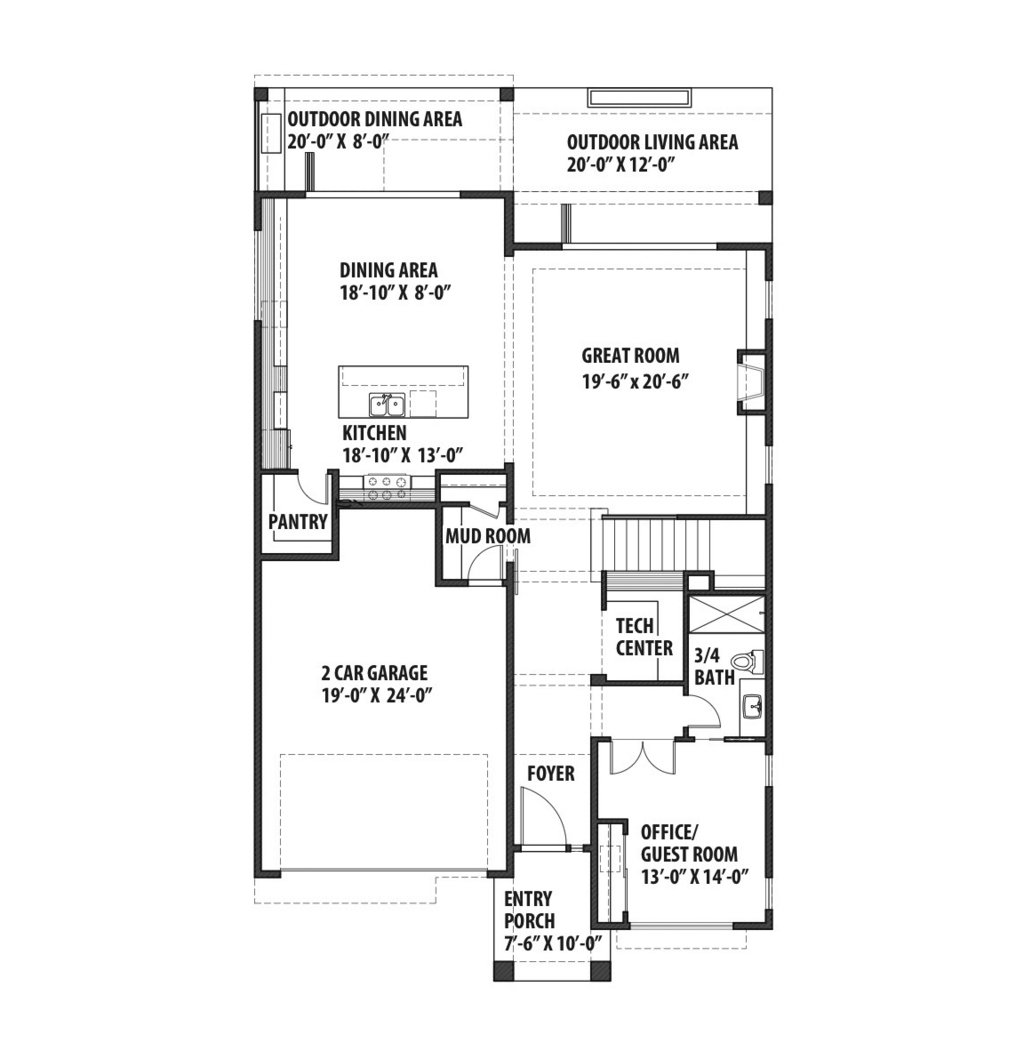door: (511, 781, 571, 849), (603, 734, 681, 778), (684, 689, 726, 730), (291, 465, 331, 505)
kitchen_bar: (333, 361, 473, 423)
large_sink: (726, 643, 766, 675)
small_sink: (739, 686, 768, 729)
stairs: (596, 517, 775, 578)
windows: (760, 272, 778, 324), (761, 434, 776, 493)
